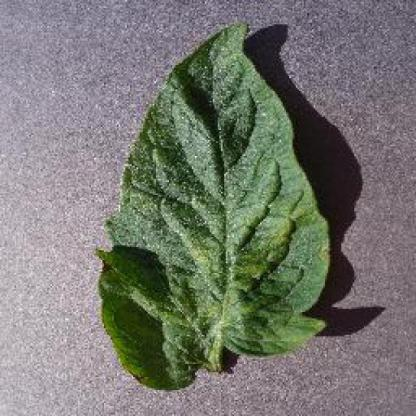Tomato_Spider_Mites: (98, 22, 326, 387)
